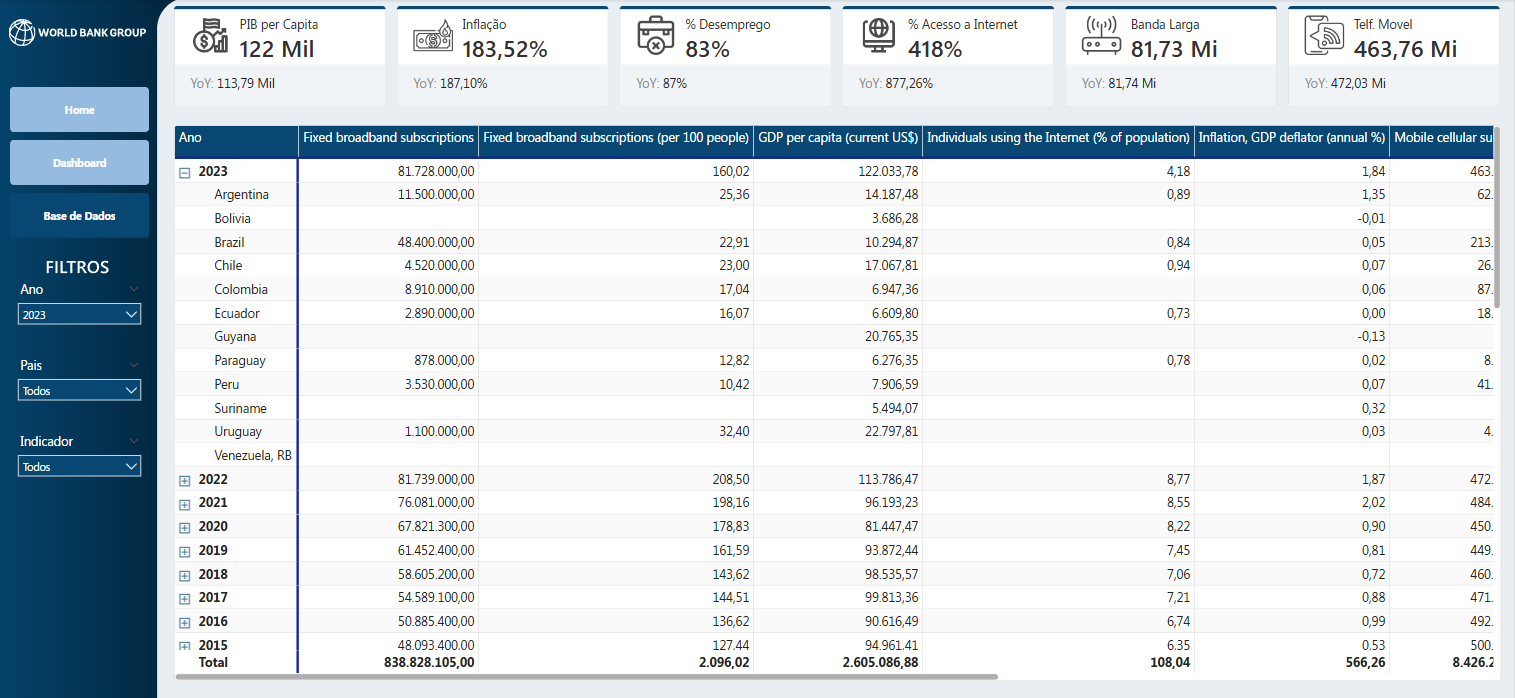

The page's visual inventory and layout, read from the dashboard file:
{"tool":"powerbi","page":{"name":"Base de Dados","canvas":[1920,890],"ordinal":2},"visuals":[{"type":"cardVisual","fields":{"Data":["_Medidas.Qtd Colaboradores mês atual ano atual","_Medidas.Inflação Ultimo Ano","_Medidas.% Desemprego Ultimo Ano","_Medidas.% da população que usa Internet Ultimo Ano","_Medidas.Banda larga Ultimo Ano","_Medidas.Telefonia Movel Ultimo Ano"]},"box":[224,9,1680,128],"z":5000},{"type":"slicer","fields":{"Values":["Fato.Pais"]},"box":[16,448,176,96],"z":6000},{"type":"slicer","title":"Filtro Ano","fields":{"Values":["D_CALENDARIO.Ano"]},"box":[16,352,176,96],"z":10000},{"type":"pivotTable","fields":{"Rows":["D_CALENDARIO.Ano","Fato.Pais"],"Columns":["Fato.Indicador"],"Values":["Sum(Fato.value)"]},"box":[224,160,1680,704],"z":11000},{"type":"pageNavigator","box":[16,112,176,192],"z":12000},{"type":"slicer","fields":{"Values":["Fato.Indicador"]},"box":[16,544,176,96],"z":13000}]}

Visuals, with their boxes on the page's 1920x890 design canvas (x1, y1, x2, y2). These are canvas units, not pixel positions in the 1515x698 screenshot, which may show the page scaled, cropped or inside an application window:
cardVisual - _Medidas.Qtd Colaboradores mês atual ano atual x _Medidas.Inflação Ultimo Ano: 224/9/1904/137
slicer - Fato.Pais: 16/448/192/544
"Filtro Ano" slicer: 16/352/192/448
pivotTable - D_CALENDARIO.Ano x Fato.Pais: 224/160/1904/864
pageNavigator: 16/112/192/304
slicer - Fato.Indicador: 16/544/192/640
